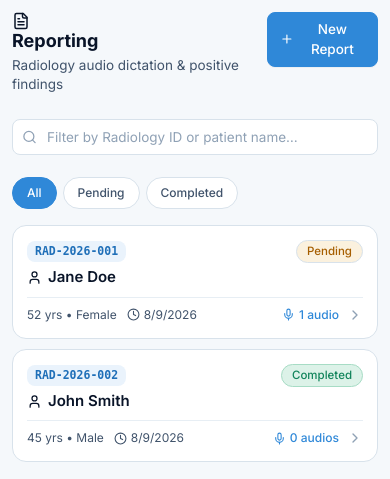
Test case: Mobile ReportingPage & NewReportModal › filters reports by search query input
Expected: the heading "Jane Doe" is shown, [27,266,126,289]
Type "John" into the field with placeholder "Filter by Radiology ID or patient name…".
click(195, 137); type("John")  # box [12,119,378,155]
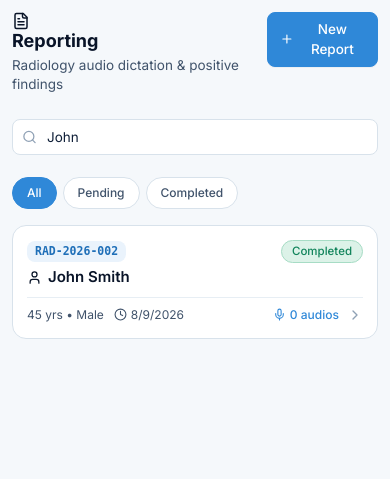
Expected: the heading "John Smith" is shown, [27,266,130,289]
Expected: the list item "Jane Doe" is gone
